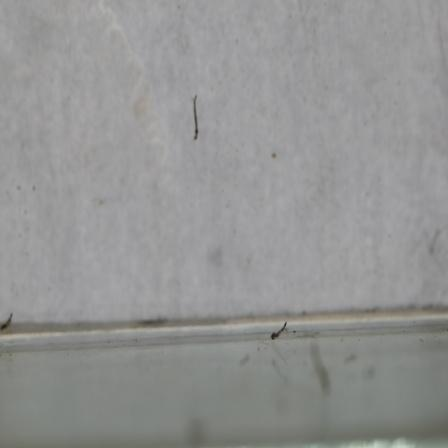Jentik-Nyamuk: (188, 91, 204, 143), (268, 319, 289, 342)
